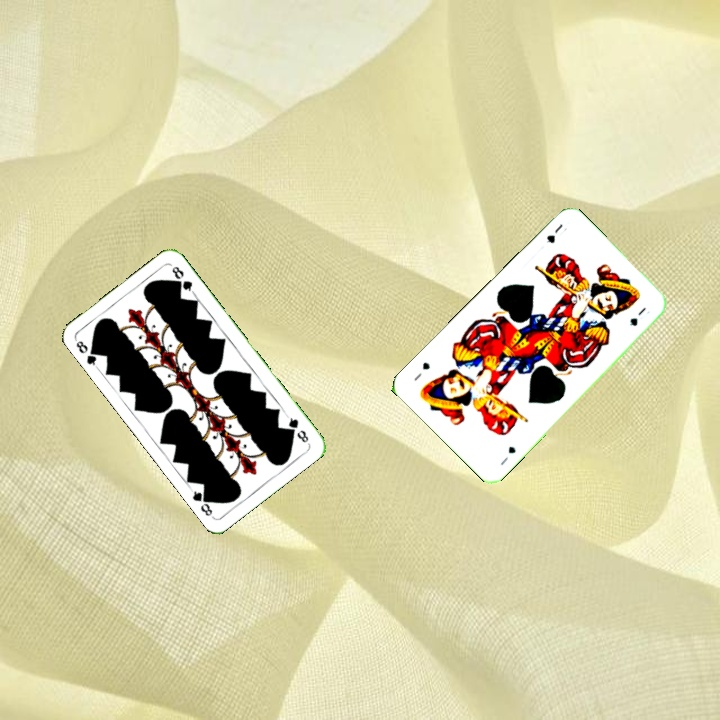G8: (71, 336, 102, 371), (283, 411, 311, 445)
GU: (542, 219, 570, 246), (496, 442, 518, 468)
